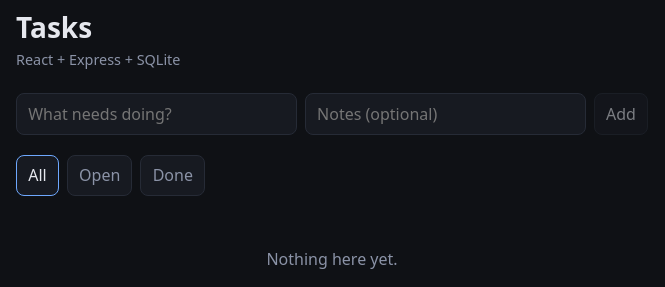
Test: App › creates a task and shows it without a manual refresh
Expected: the text "Nothing here yet." is shown, 266,248 -> 398,270
Type "Buy milk" into the field named "Task title" at (156, 114), box 16,93 -> 297,135
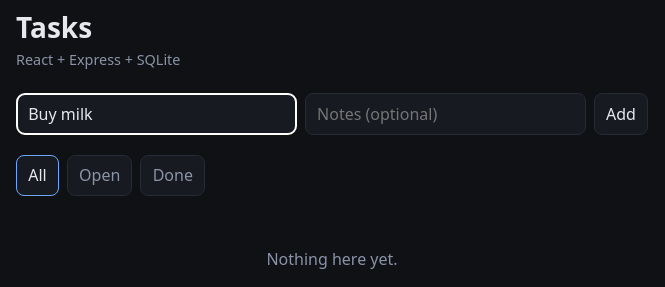
Click the button "Add" at (621, 114), box 594,93 -> 648,135
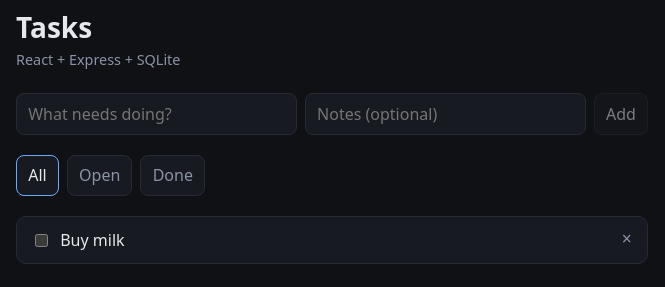
Result: the text "Buy milk" is shown at 60,229 -> 125,251
